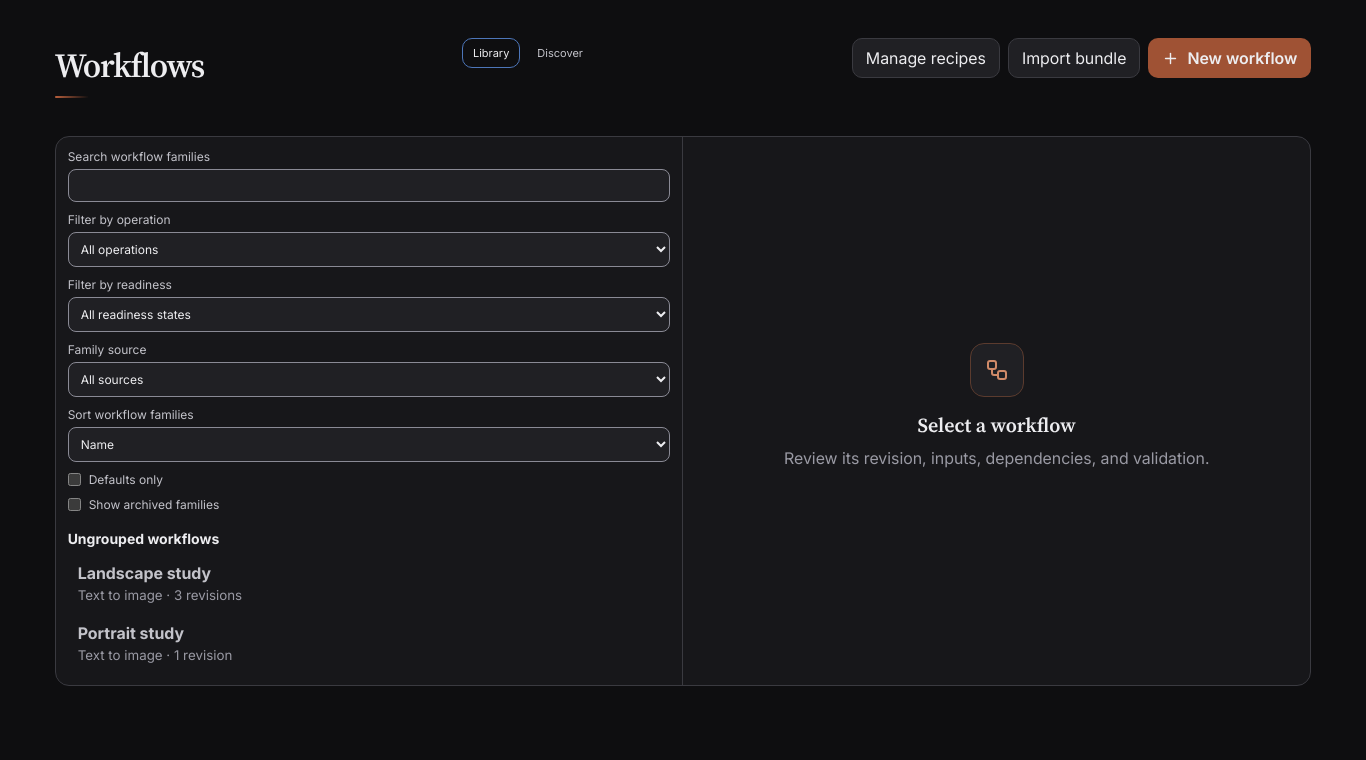
it: workflow revision history › resets the history disclosure and selection when switching workflows
The width and height of the screenshot is (1366, 760).
Click the text "Landscape study".
click(144, 573)  # box [78, 563, 211, 583]
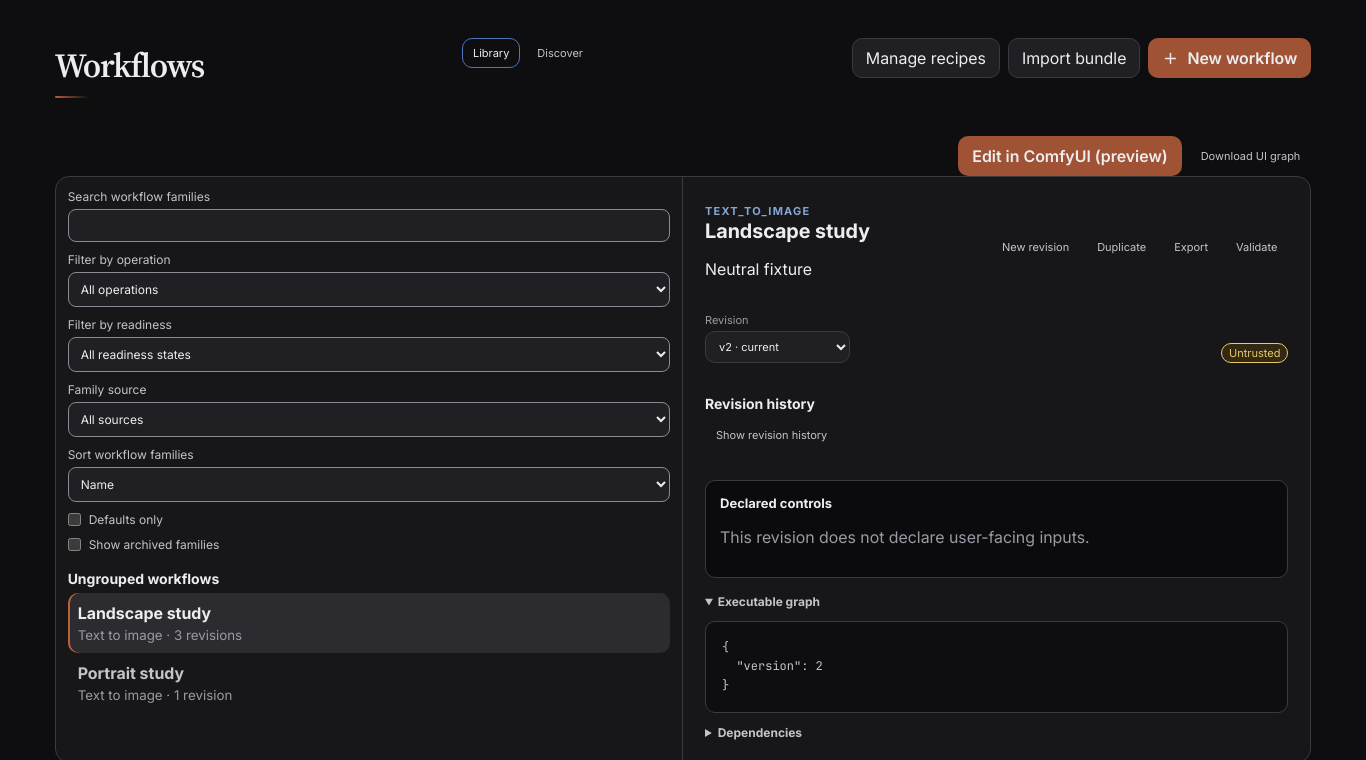
expect the button "New revision" is shown: met, box [991, 232, 1080, 262]
Click the button "Show revision history".
click(772, 435)  # box [705, 420, 838, 450]
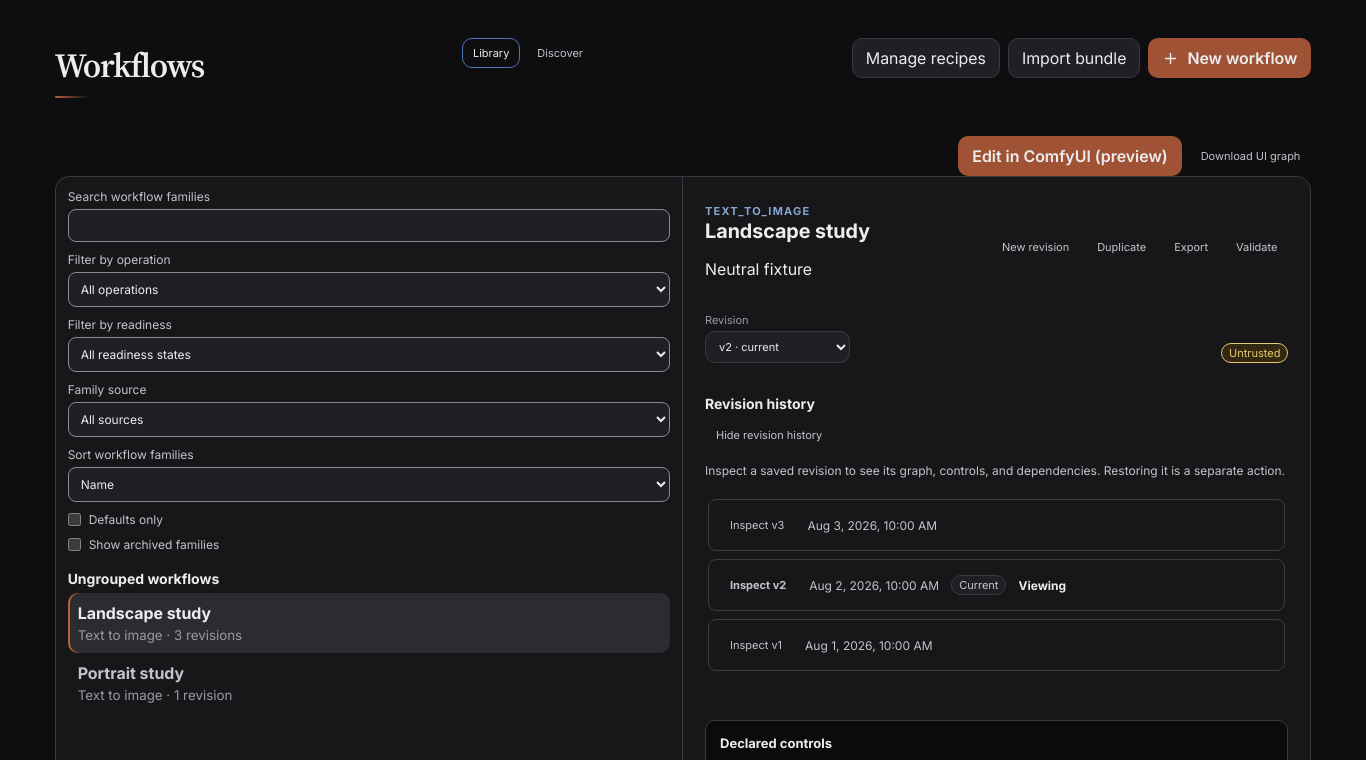
Click the button "Inspect v1".
click(756, 645)  # box [719, 630, 793, 660]
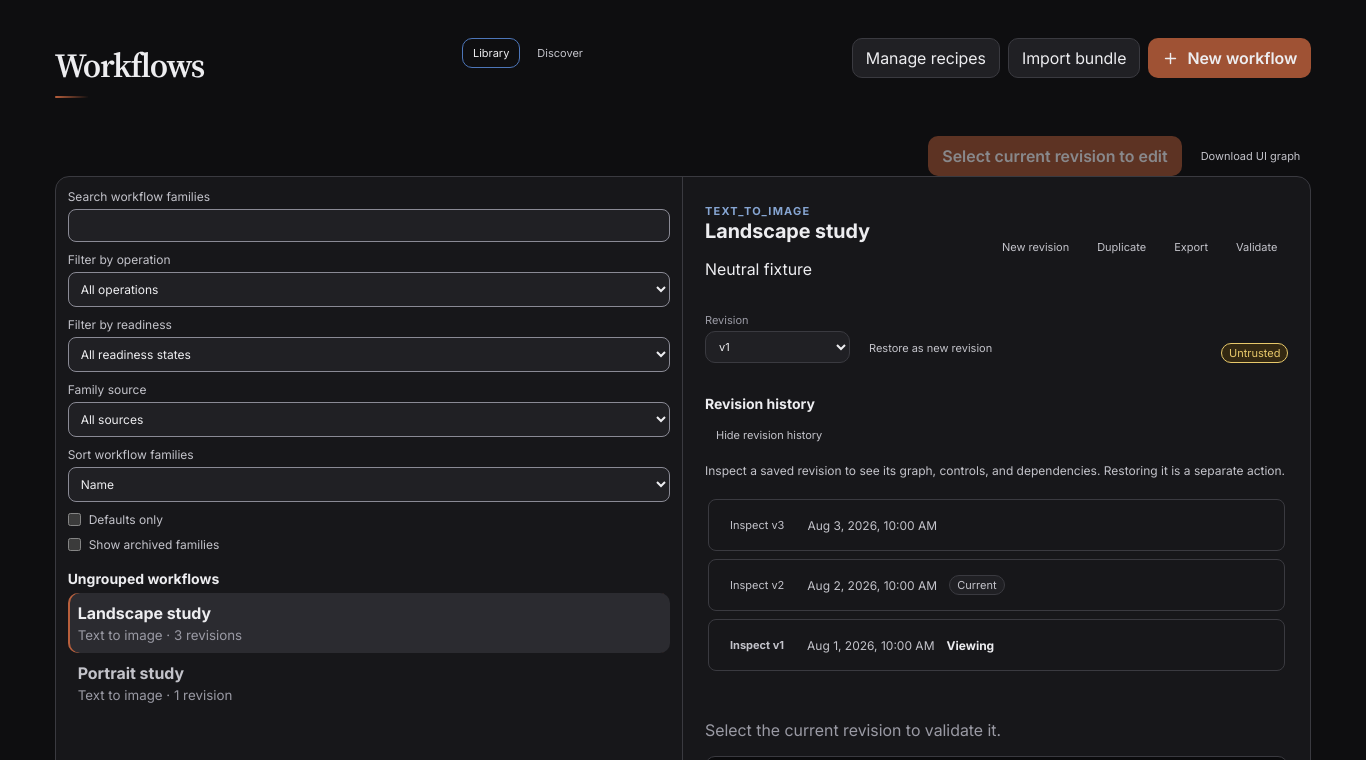
Click the text "Portrait study".
click(131, 673)  # box [78, 663, 184, 683]
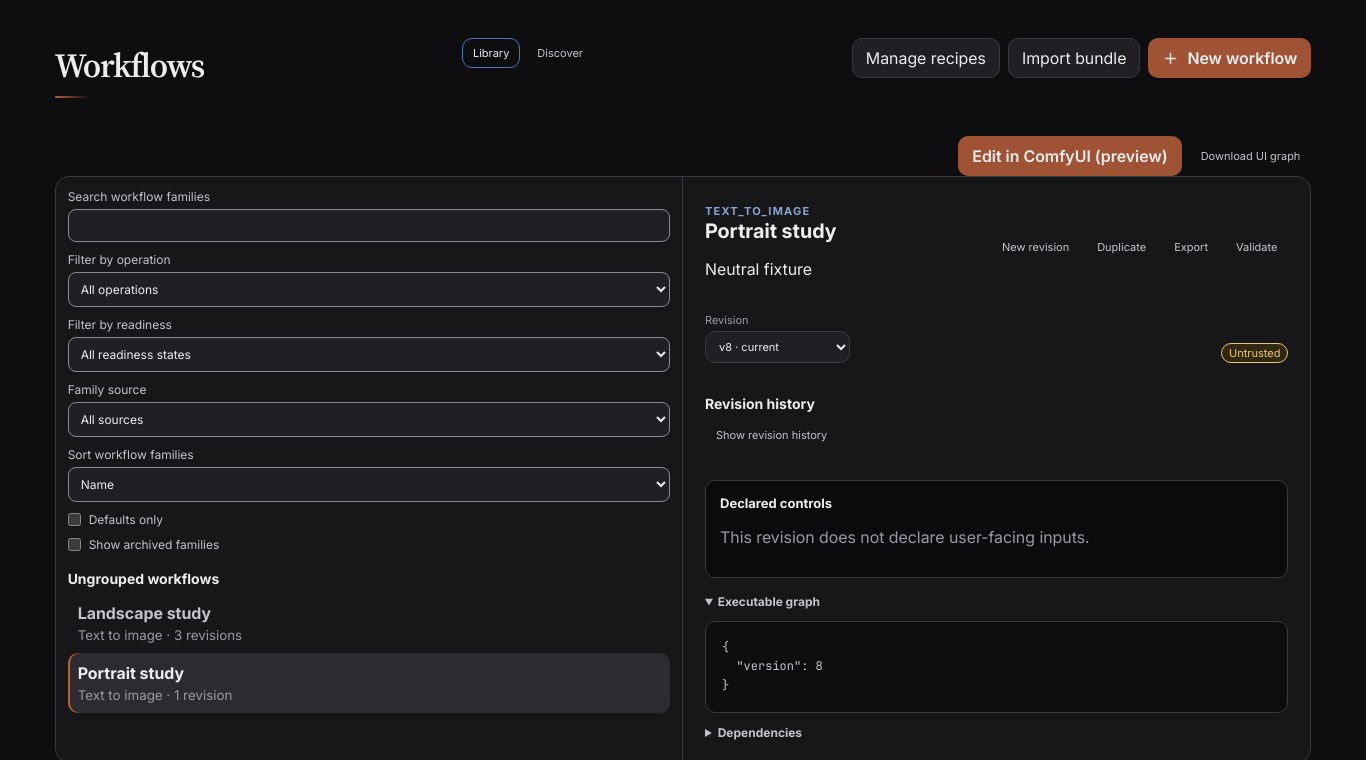
expect the button "New revision" is shown: met, box [991, 232, 1080, 262]
Click the button "Show revision history".
click(772, 435)  # box [705, 420, 838, 450]
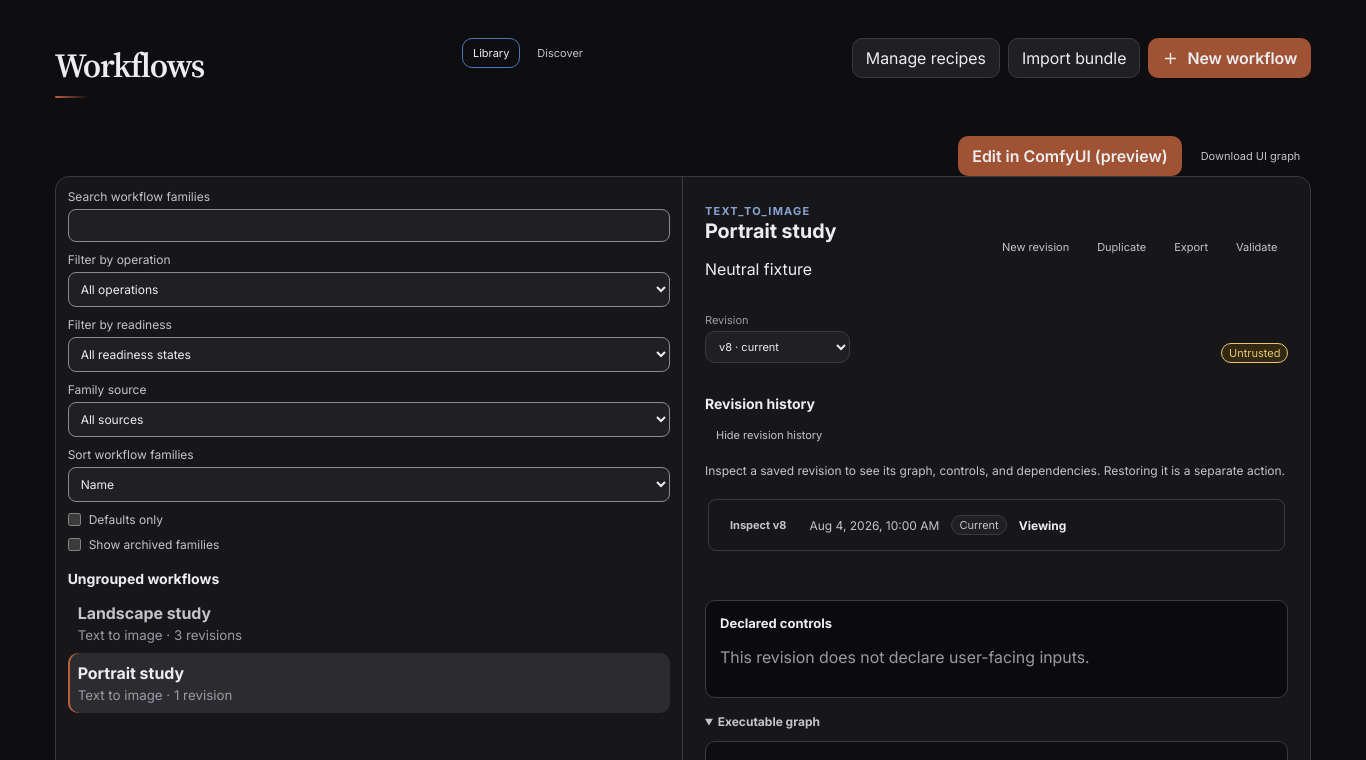
expect the button "Inspect v1" is not shown: met
expect the number of list items is 1: met, box [708, 499, 1285, 551]
